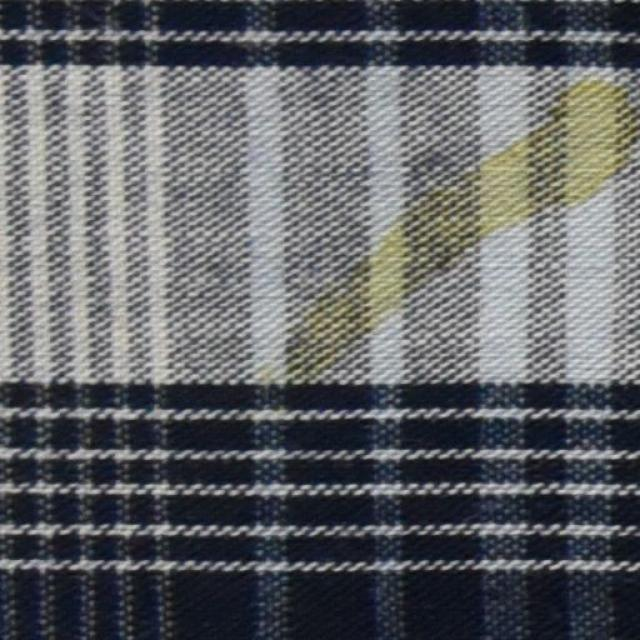Stain: (282, 69, 639, 382)
